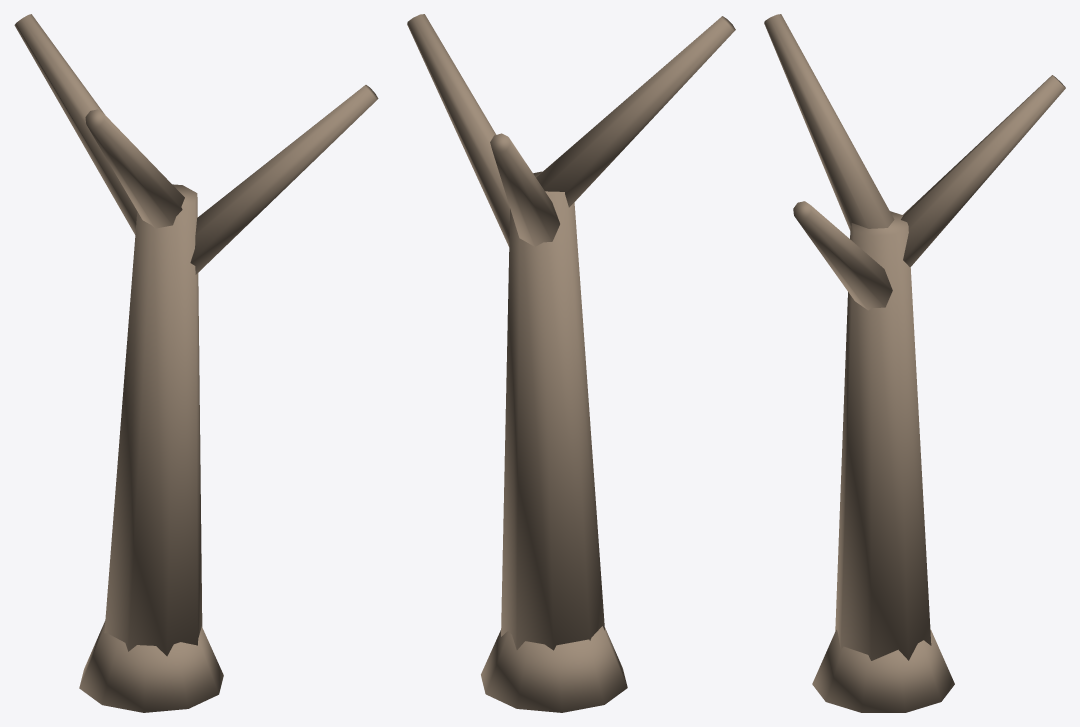
File: tree_trunk.glb
The picture shows the model from 3 angles, left to right: view 1: azimuth 30°, elevation 25°; view 2: azimuth 150°, elevation 25°; view 3: azimuth 270°, elevation 25°; orthographic projection. The views are drawn at different scales.
Parts seen in each view (by area): view 1: tree_trunk; view 2: tree_trunk; view 3: tree_trunk.
Part boxes in pixels (x1,y1,x2,y2): tree_trunk: (14,14,378,712); tree_trunk: (407,14,735,712); tree_trunk: (764,14,1065,712).
Bounding box in the file's own units: 1.72 × 3.44 × 1.52.
